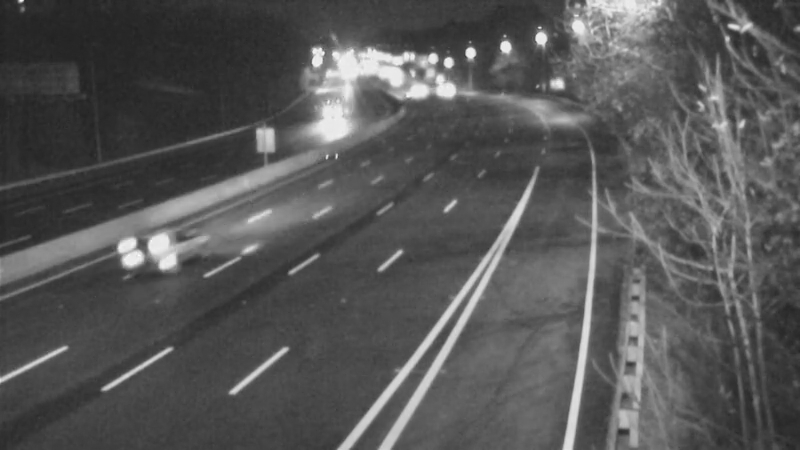vehicle: (102, 212, 182, 292), (418, 69, 468, 119), (297, 93, 347, 143)
